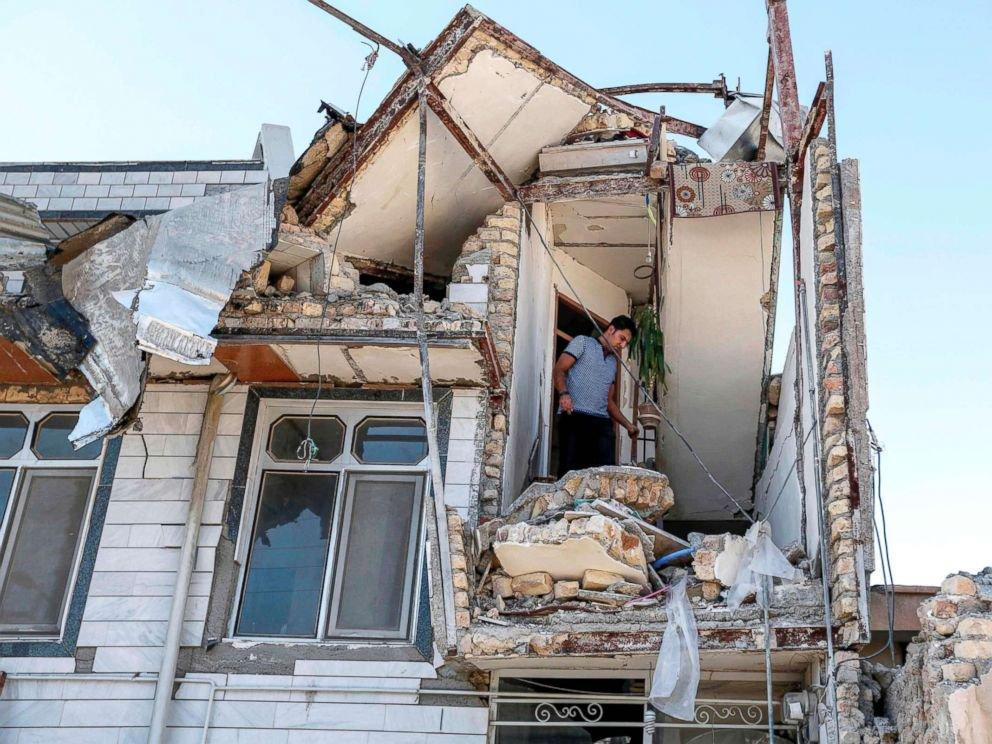destroyed: (29, 21, 967, 728)
